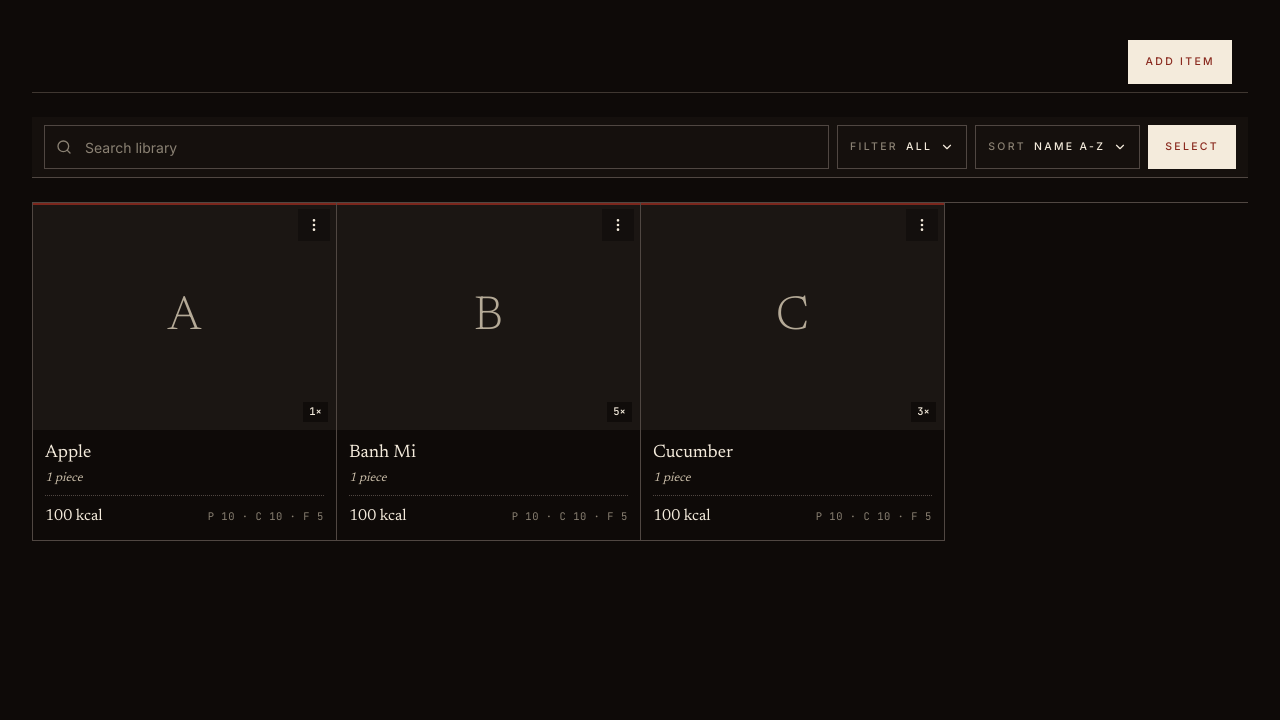
Test: <LibraryClient /> integration › entering select mode + selecting 2 cards reveals the bulk actions bar
Click the button with test id "library-select-toggle" at (1192, 147), box [1148,125,1236,169]
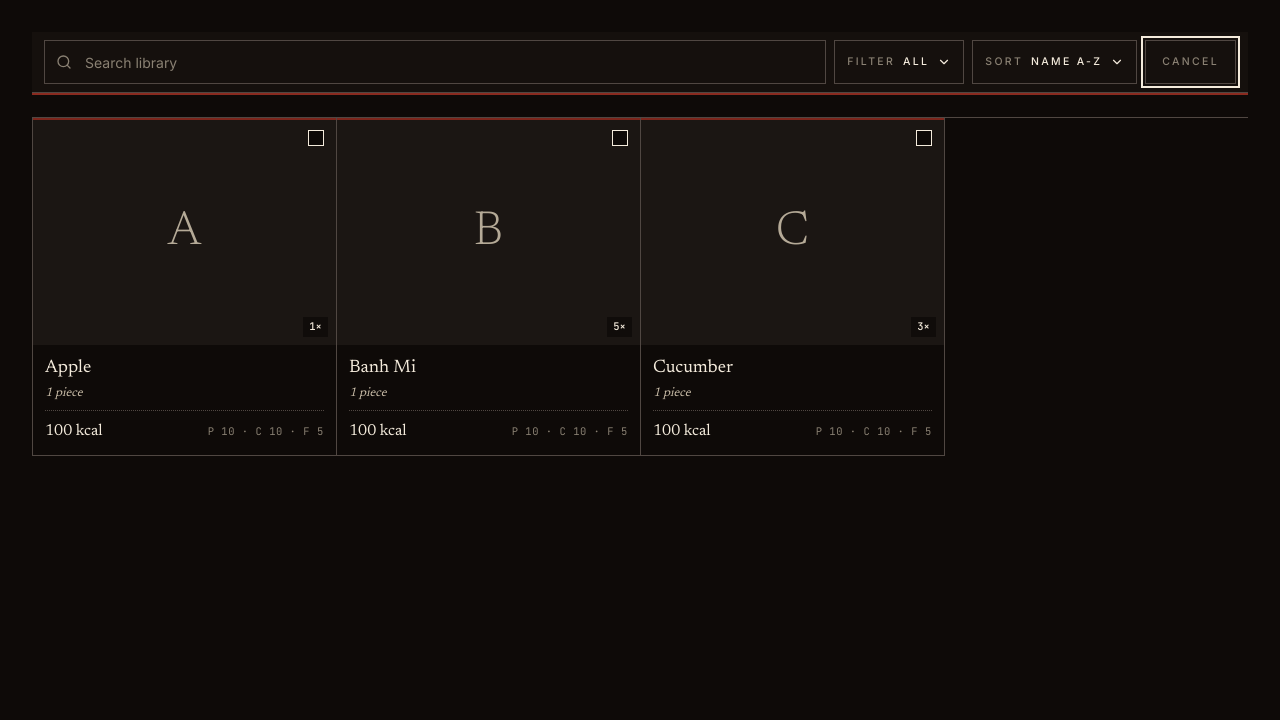
Click the checkbox with test id "library-card-a" at (184, 287), box [33,118,336,455]
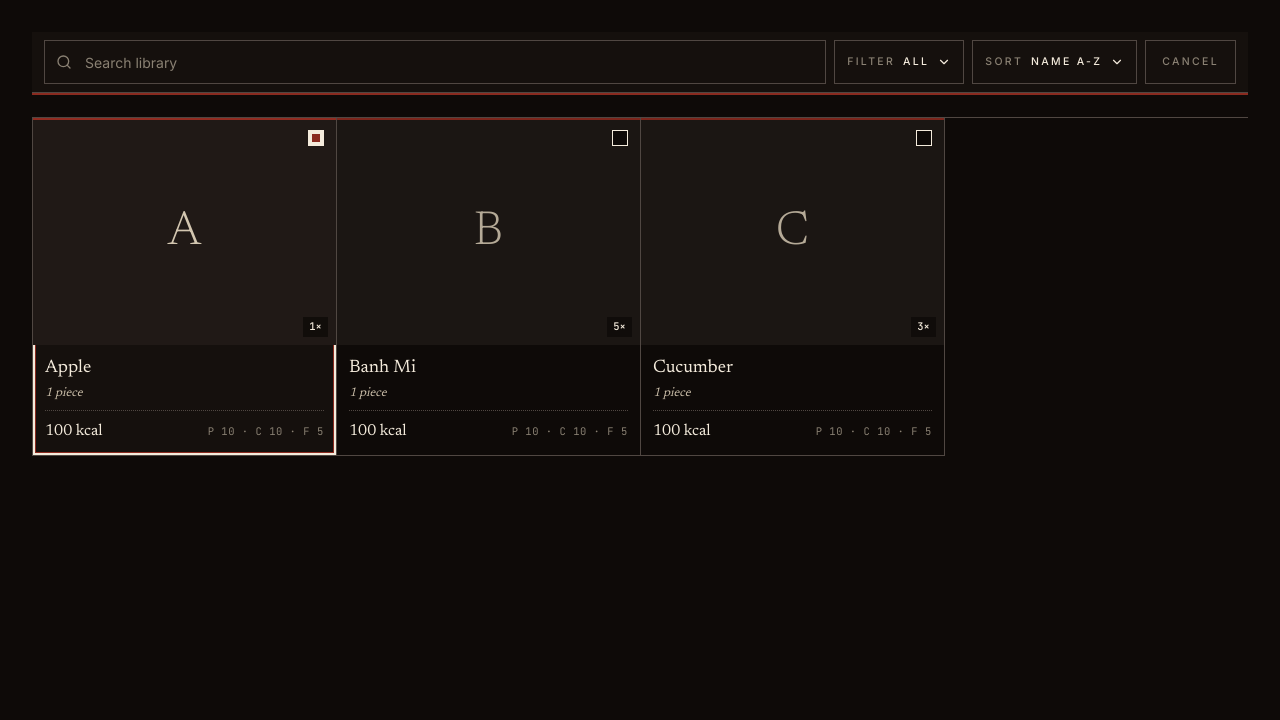
Click the checkbox with test id "library-card-b" at (488, 287), box [337,118,640,455]
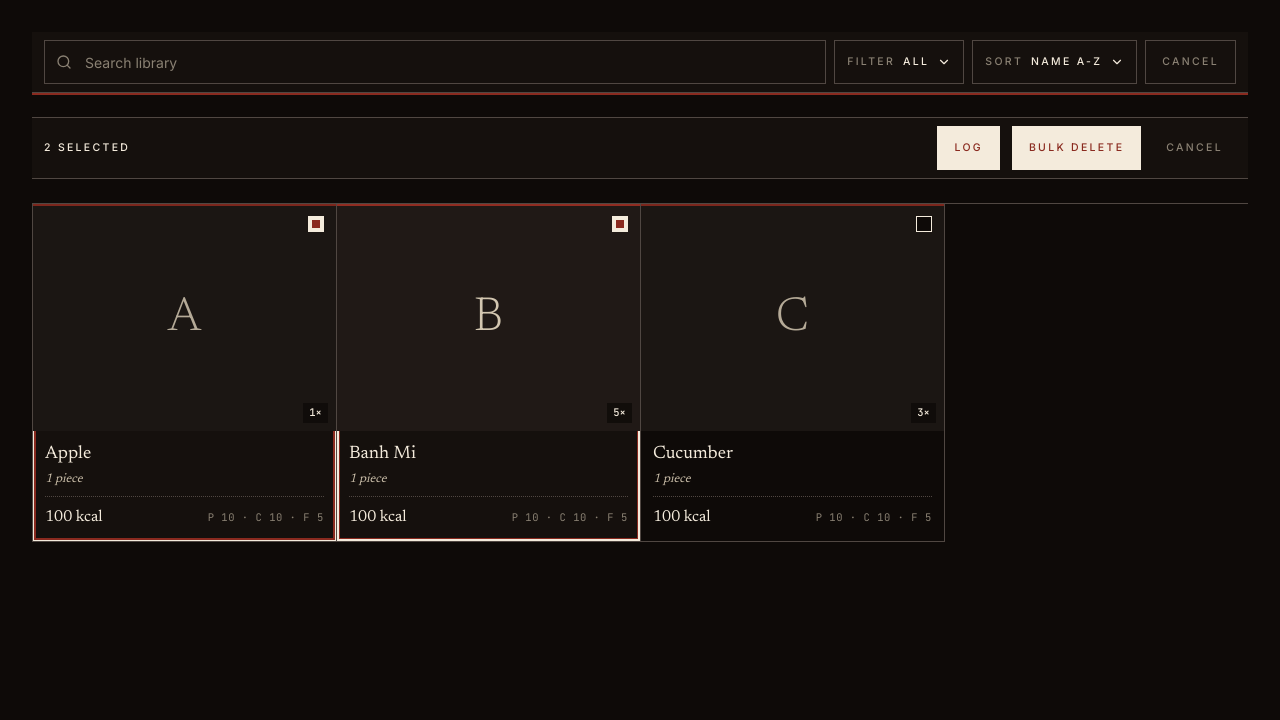
Expected: the element with test id "library-bulk-actions-bar" is shown, [32,117,1248,179]
Expected: the button with test id "library-bulk-log-button" is shown, [937,126,1000,170]
